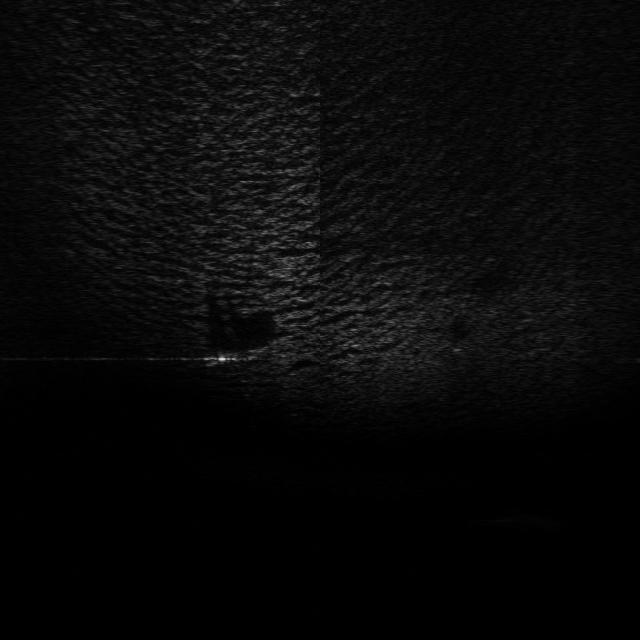plane: (200, 342, 270, 367)
